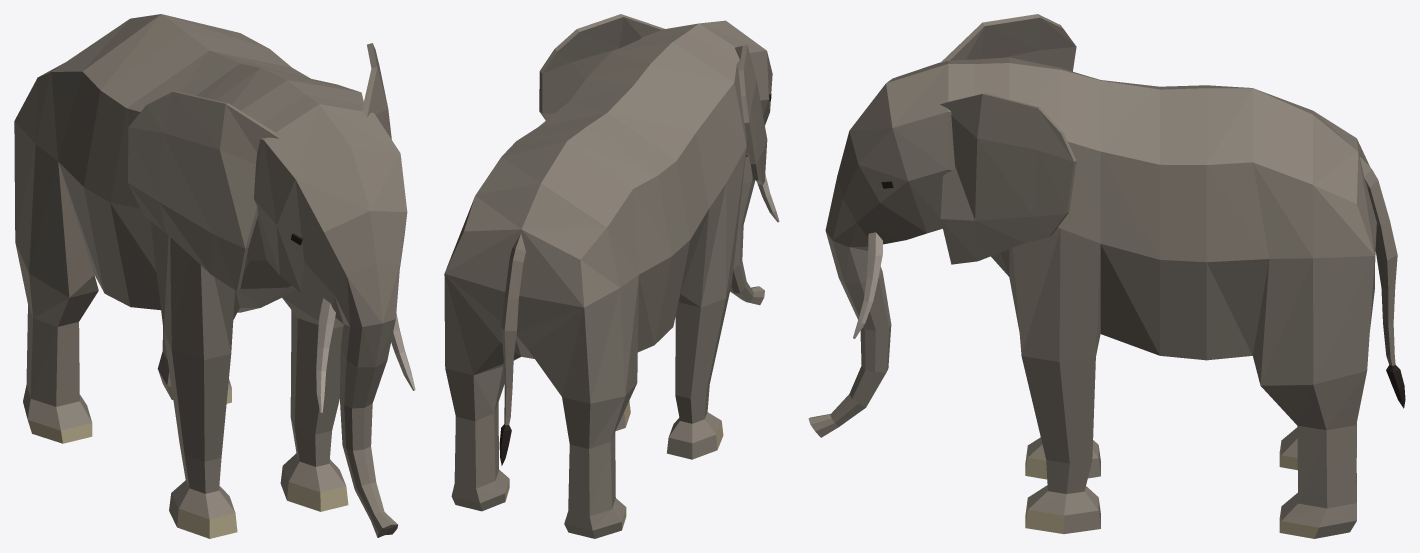
File: elephant.glb
3 views of the same model, side by side, from view 1: azimuth 30°, elevation 25°; view 2: azimuth 150°, elevation 25°; view 3: azimuth 270°, elevation 25° (orthographic). The views are drawn at different scales.
Parts seen in each view (by area): view 1: elephant; view 2: elephant; view 3: elephant.
Part boxes in pixels (box(x1,y1,x2,y2)): elephant: box(14, 14, 415, 538); elephant: box(444, 14, 779, 538); elephant: box(808, 14, 1405, 538).
Bounding box in the file's own units: 112 × 187 × 231.
